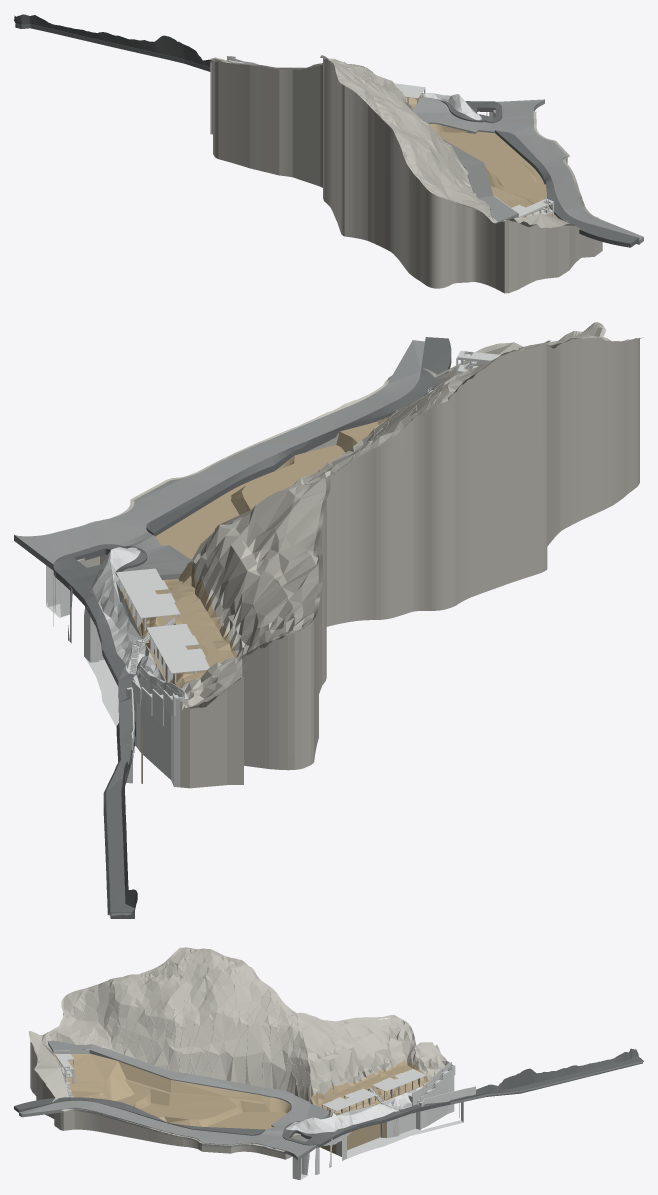
The model's file is project.glb.
3 renders of one model, top to bottom at view 1: azimuth 30°, elevation 25°; view 2: azimuth 150°, elevation 25°; view 3: azimuth 270°, elevation 25°, orthographic. The views are drawn at different scales.
Visible parts, largest first — view 1: Toposolid Mount Parker Road Site [628674], Toposolid Mount Parker Road Site [691965], Floor TFP-RCS-1500mm [708674], Toposolid Road [605416], Floor Footpath-1500mm [633793], Footpath to hillside infill, Floor Footpath-1500mm [635871], Toposolid Mount Parker Road Site 4 [629999], Toposolid Mount Parker Road Site 4 [626493], Slope to map boundary closure, Toposolid Boulder [658958], Toposolid Mount Parker Road Site 4 [624127]; view 2: Toposolid Mount Parker Road Site [628674], Toposolid Mount Parker Road Site [691965], Floor TFP-RCS-1500mm [708674], Floor Footpath-1500mm [635871], Toposolid Mount Parker Road Site [685568], Floor Footpath-1500mm [633793], Toposolid Mount Parker Road Site 4 [674895], Floor STS-RCS-115mm [675621], Slope to map boundary closure, Toposolid Mount Parker Road Site 4 [629999], Toposolid Mount Parker Road Site 4 [626493], Footpath to hillside infill (+3 smaller); view 3: Toposolid Mount Parker Road Site [628674], Toposolid Mount Parker Road Site [691965], Toposolid Mount Parker Road Site 4 [624744], Floor TFP-RCS-1500mm [708674], Toposolid Mount Parker Road Site [685568], Toposolid Road [605416], Toposolid Mount Parker Road Site 4 [674895], Floor Footpath-1500mm [635871], Footpath to hillside infill, Slope to map boundary closure, Toposolid Mount Parker Road Site 4 [624127], Floor Footpath-1500mm [633793] (+6 smaller).
Part boxes in pixels (<box>): Toposolid Mount Parker Road Site [628674]: <box>323,58,602,293</box>; Toposolid Mount Parker Road Site [691965]: <box>210,60,373,187</box>; Floor TFP-RCS-1500mm [708674]: <box>486,99,643,244</box>; Toposolid Road [605416]: <box>412,97,518,221</box>; Floor Footpath-1500mm [633793]: <box>495,130,639,247</box>; Footpath to hillside infill: <box>14,14,211,67</box>; Floor Footpath-1500mm [635871]: <box>15,23,502,123</box>; Toposolid Mount Parker Road Site 4 [629999]: <box>436,131,544,183</box>; Toposolid Mount Parker Road Site 4 [626493]: <box>468,153,546,192</box>; Slope to map boundary closure: <box>210,55,599,227</box>; Toposolid Boulder [658958]: <box>422,93,481,120</box>; Toposolid Mount Parker Road Site 4 [624127]: <box>491,186,558,218</box>; Toposolid Mount Parker Road Site [628674]: <box>77,327,639,626</box>; Toposolid Mount Parker Road Site [691965]: <box>180,478,326,788</box>; Floor TFP-RCS-1500mm [708674]: <box>14,340,424,570</box>; Floor Footpath-1500mm [635871]: <box>53,544,147,918</box>; Toposolid Mount Parker Road Site [685568]: <box>46,565,173,783</box>; Floor Footpath-1500mm [633793]: <box>146,337,451,536</box>; Toposolid Mount Parker Road Site 4 [674895]: <box>121,561,238,688</box>; Floor STS-RCS-115mm [675621]: <box>116,568,209,673</box>; Slope to map boundary closure: <box>58,322,642,709</box>; Toposolid Mount Parker Road Site 4 [629999]: <box>155,474,267,558</box>; Toposolid Mount Parker Road Site 4 [626493]: <box>242,445,345,509</box>; Footpath to hillside infill: <box>103,721,137,915</box>; Toposolid Mount Parker Road Site [628674]: <box>30,949,313,1159</box>; Toposolid Mount Parker Road Site [691965]: <box>296,1015,448,1095</box>; Toposolid Mount Parker Road Site 4 [624744]: <box>98,1061,266,1111</box>; Floor TFP-RCS-1500mm [708674]: <box>19,1100,316,1160</box>; Toposolid Mount Parker Road Site [685568]: <box>292,1068,463,1180</box>; Toposolid Road [605416]: <box>47,1040,329,1131</box>; Toposolid Mount Parker Road Site 4 [674895]: <box>310,1059,429,1154</box>; Floor Footpath-1500mm [635871]: <box>282,1056,642,1147</box>; Footpath to hillside infill: <box>450,1048,643,1104</box>; Slope to map boundary closure: <box>28,947,449,1151</box>; Toposolid Mount Parker Road Site 4 [624127]: <box>54,1053,117,1098</box>; Floor Footpath-1500mm [633793]: <box>14,1097,265,1135</box>.
Bounding box in the file's own units: 117 × 67.68 × 275.
